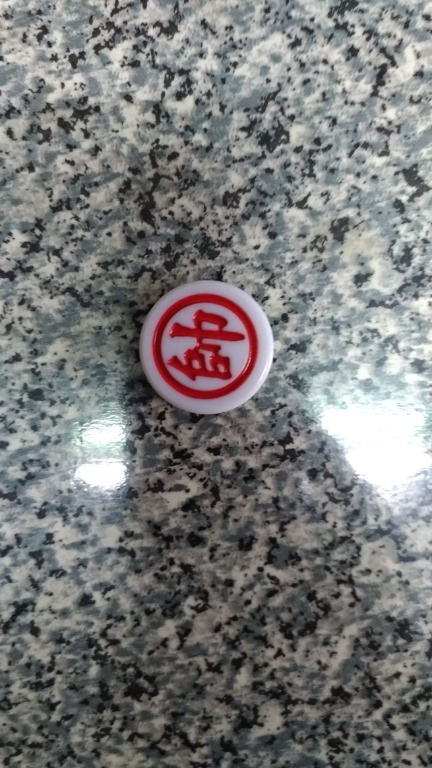r-king: (128, 273, 288, 423)
